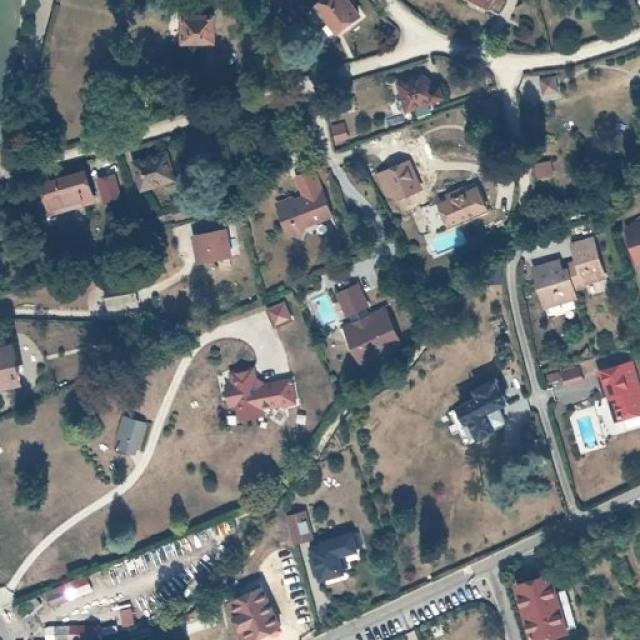maison: (524, 228, 610, 317), (35, 148, 122, 226), (220, 349, 302, 425), (444, 359, 513, 448), (271, 171, 337, 244), (218, 570, 285, 640), (512, 578, 576, 637), (387, 61, 451, 114), (433, 175, 497, 226), (597, 359, 640, 426), (368, 156, 428, 203), (310, 0, 364, 45), (311, 529, 360, 577), (189, 226, 235, 266), (112, 408, 144, 458), (177, 12, 215, 48), (290, 509, 310, 537)
piscine: (569, 396, 603, 462), (419, 228, 473, 256), (305, 289, 335, 327)
villa: (310, 280, 398, 356), (131, 149, 178, 194)
